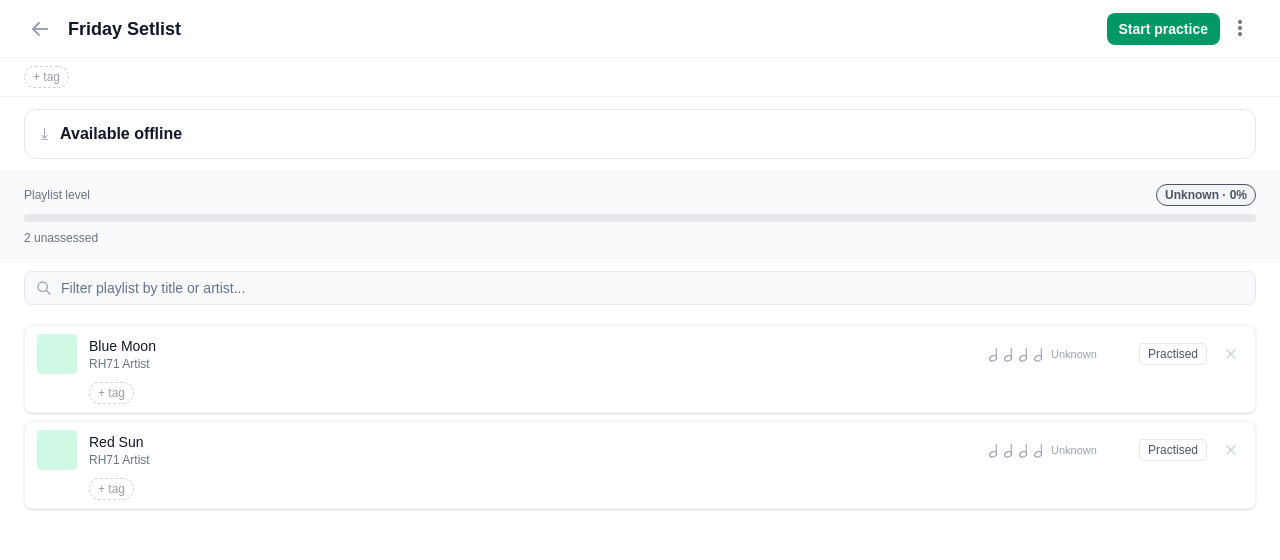
Test: PlaylistDetailView (RH-71) › renders the error banner and dismisses it
Click the button named "Remove Red Sun from playlist" at (1231, 450), box [1219, 438, 1243, 462]
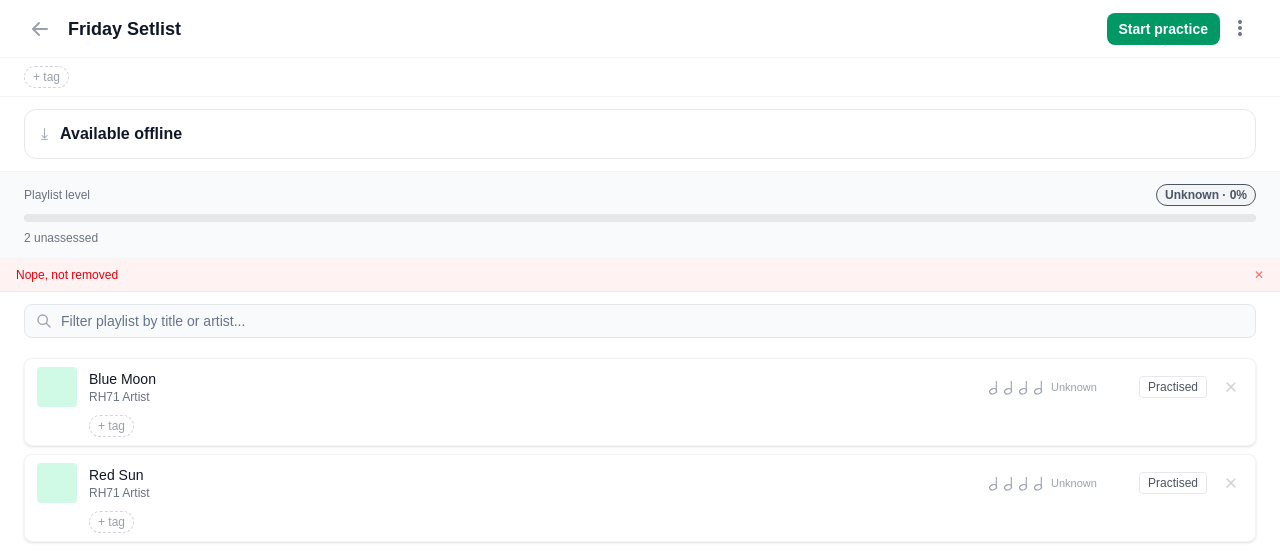
Result: the text "Nope, not removed" is shown at [16, 267, 118, 283]
Click the button "✕" at (1259, 275), box [1254, 267, 1264, 283]
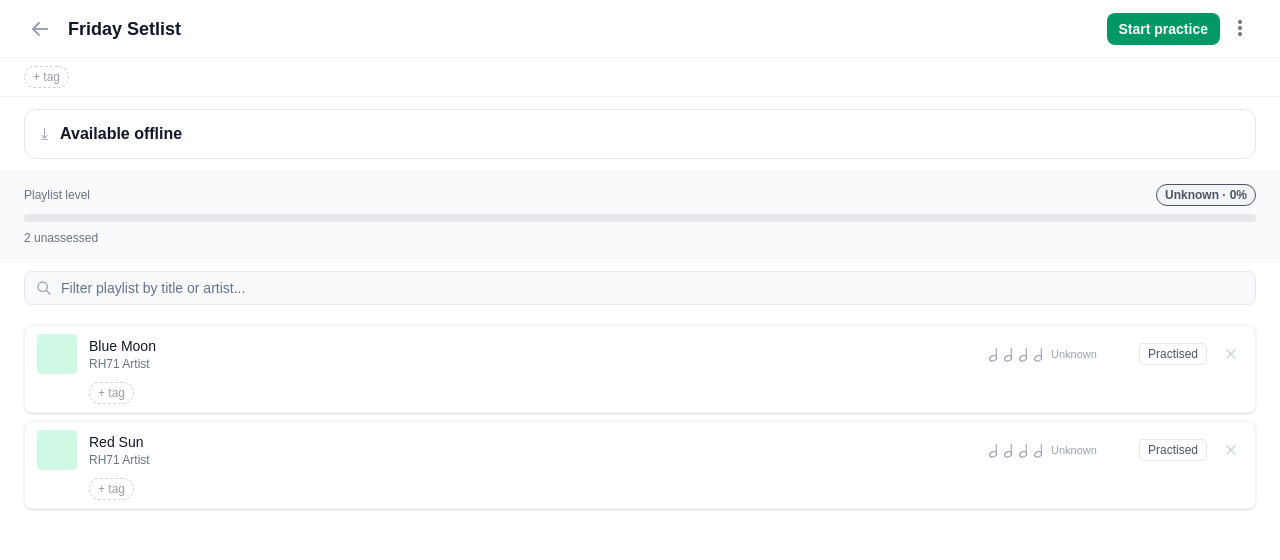
Result: the text "Nope, not removed" is gone
